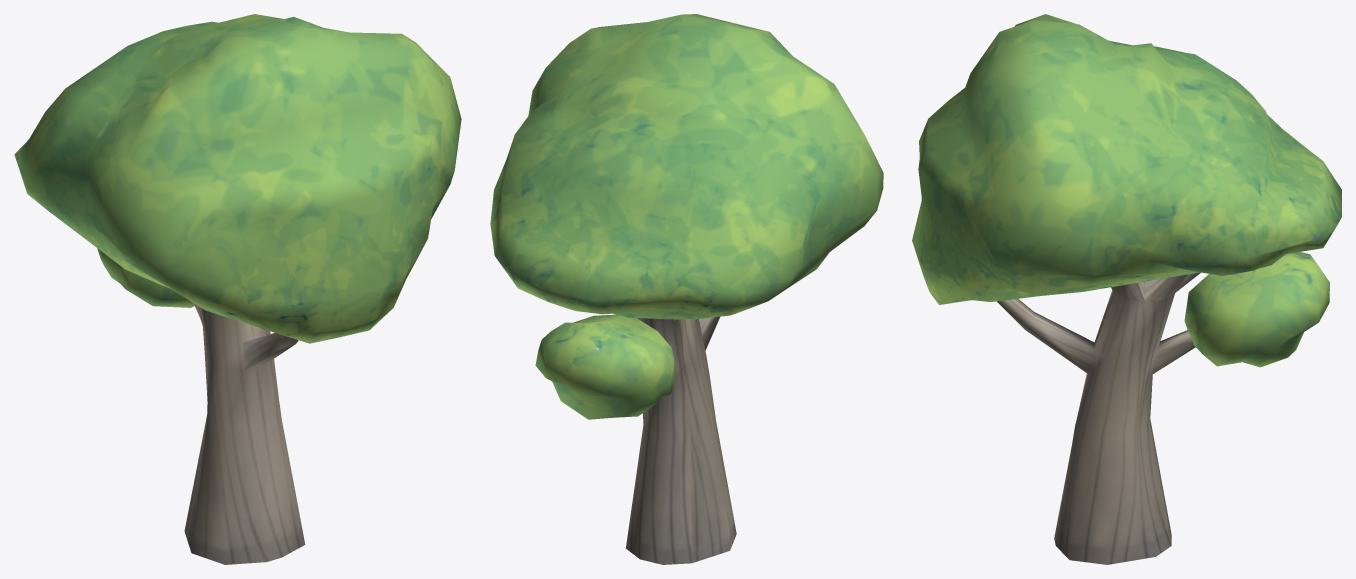
The model's file is Tree.glb.
The picture shows the model from 3 angles, left to right: view 1: azimuth 30°, elevation 25°; view 2: azimuth 150°, elevation 25°; view 3: azimuth 270°, elevation 25°; orthographic projection. The views are drawn at different scales.
Visible parts, largest first — view 1: Tree.01; view 2: Tree.01; view 3: Tree.01.
Part boxes in pixels (box(x1,y1,x2,y2)): Tree.01: box(14, 14, 461, 564); Tree.01: box(490, 14, 883, 564); Tree.01: box(912, 14, 1341, 564).
Size of the model in its own units: 3.21 by 4.63 by 3.58.
1 material, 1 textured.
